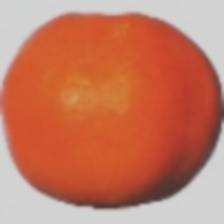tangerine: (40, 16, 180, 167)
